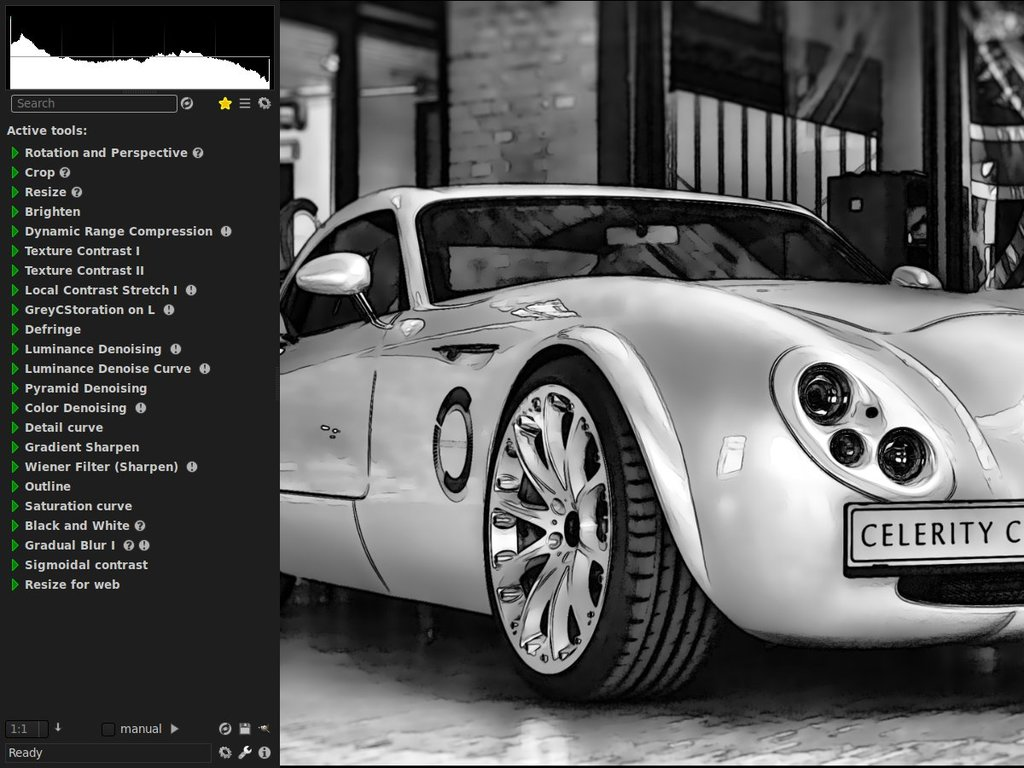Car: (251, 155, 1004, 713)
